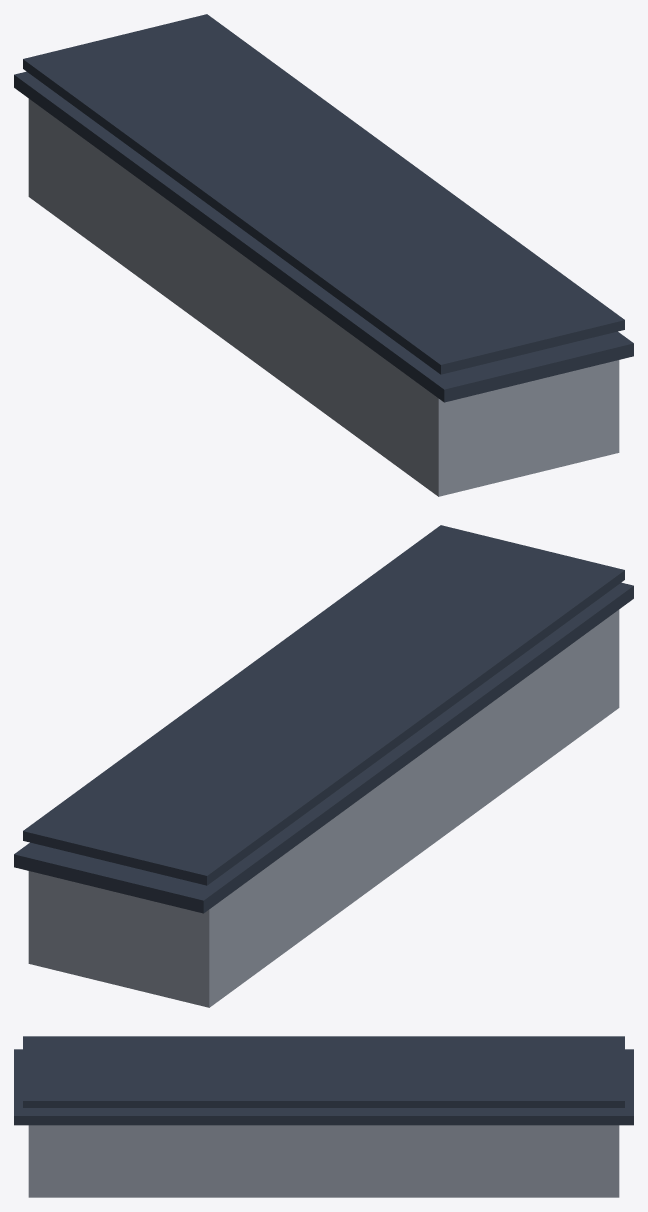
The picture shows the model from 3 angles, top to bottom: view 1: azimuth 30°, elevation 25°; view 2: azimuth 150°, elevation 25°; view 3: azimuth 270°, elevation 25°; orthographic projection. The views are drawn at different scales.
Parts seen in each view (by area): view 1: k1; view 2: k1; view 3: k1.
Part boxes in pixels (box(x1,y1,x2,y2)): k1: box(14, 14, 633, 496); k1: box(14, 525, 633, 1007); k1: box(14, 1036, 633, 1197).
Bounding box in the file's own units: 3.67 × 2.51 × 14.44.
